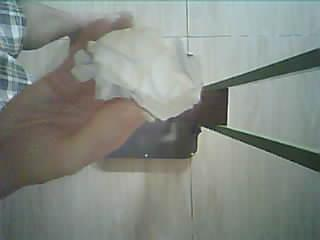paper: (72, 30, 201, 119)
